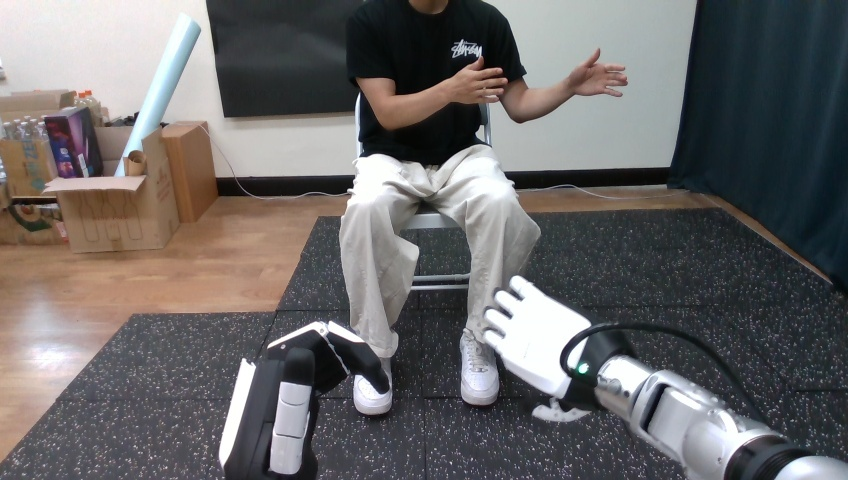left robot arm: (484, 276, 847, 479), (219, 321, 389, 478)
left robot hand: (484, 276, 847, 479), (567, 48, 626, 96)
right robot arm: (484, 276, 847, 479)
right robot hand: (484, 276, 847, 479), (444, 57, 507, 103), (567, 48, 626, 96)
